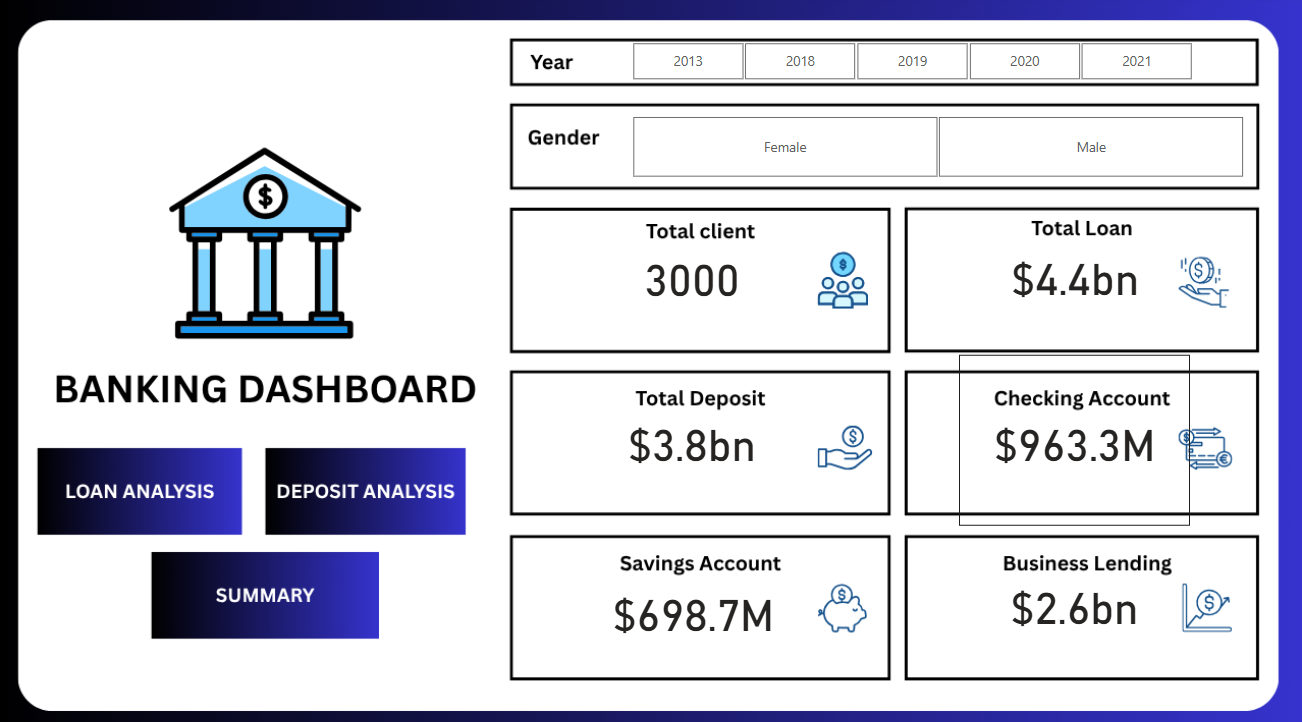

The page's visual inventory and layout, read from the dashboard file:
{"tool":"powerbi","page":{"name":"Home ","canvas":[1280,720],"ordinal":1},"visuals":[{"type":"card","fields":{"Values":["banking customer.Name"]},"box":[563.2,225.8,234.4,98.2],"z":0},{"type":"slicer","fields":{"Values":["banking customer.GenderId"]},"box":[596.3,111.7,649.1,72.4],"z":1000},{"type":"card","fields":{"Values":["banking customer.Total Loan"]},"box":[943.6,225.8,225.8,95.7],"z":2000},{"type":"card","fields":{"Values":["banking customer.Total Deposit"]},"box":[579.1,384.1,202.5,104.3],"z":3000},{"type":"card","fields":{"Values":["banking customer.Saving Accounts"]},"box":[571.8,537.4,219.6,132.5],"z":4000},{"type":"card","fields":{"Values":["banking customer.Checking Accounts"]},"box":[942.3,352.1,227,168.1],"z":5000},{"type":"card","fields":{"Values":["banking customer.Business Lending"]},"box":[965.6,537.4,180.4,119],"z":6000},{"type":"slicer","fields":{"Values":["banking customer.Year of Joining"]},"box":[596.3,39.3,598.8,49.1],"z":7000},{"type":"actionButton","box":[44.2,449.1,186.5,74.8],"z":8000},{"type":"actionButton","box":[265,449.1,186.5,74.8],"z":9000},{"type":"actionButton","box":[153.4,548.5,216,78.5],"z":10000}]}

Visuals, with their boxes in screenshot pixels (x1, y1, x2, y2), scaled from the page's 1280x720 canvas onto the 1302x722 screenshot:
card - banking customer.Name: <bbox>573, 226, 811, 325</bbox>
slicer - banking customer.GenderId: <bbox>607, 112, 1267, 185</bbox>
card - banking customer.Total Loan: <bbox>960, 226, 1189, 322</bbox>
card - banking customer.Total Deposit: <bbox>589, 385, 795, 490</bbox>
card - banking customer.Saving Accounts: <bbox>582, 539, 805, 672</bbox>
card - banking customer.Checking Accounts: <bbox>958, 353, 1189, 522</bbox>
card - banking customer.Business Lending: <bbox>982, 539, 1166, 658</bbox>
slicer - banking customer.Year of Joining: <bbox>607, 39, 1216, 89</bbox>
actionButton: <bbox>45, 450, 235, 525</bbox>
actionButton: <bbox>270, 450, 459, 525</bbox>
actionButton: <bbox>156, 550, 376, 629</bbox>
